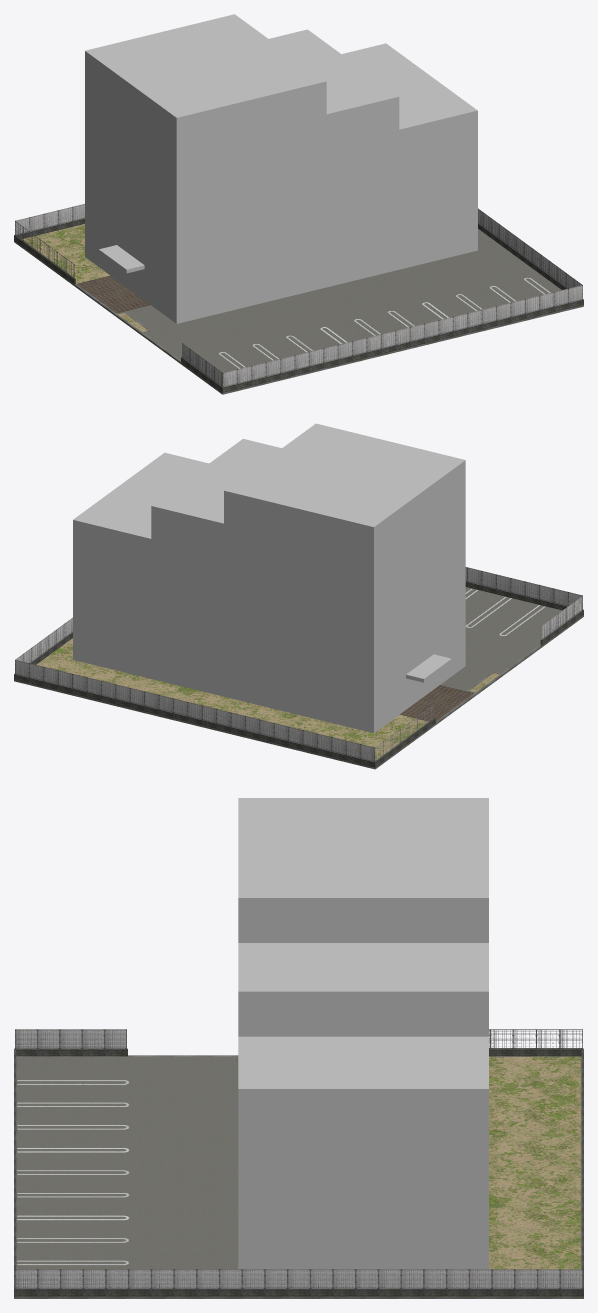
The model's file is Apartment_old_lightgray.fbx.
3 renders of one model, top to bottom at view 1: azimuth 30°, elevation 25°; view 2: azimuth 150°, elevation 25°; view 3: azimuth 270°, elevation 25°, orthographic. The views are drawn at different scales.
Parts seen in each view (by area): view 1: 100_Apartment_old_lightgray, 000_Site_apartment_old_lightgray, 101_Apartment_old_lightgray_sidewall, 200_Fence_apartment_old_lightgray; view 2: 100_Apartment_old_lightgray, 101_Apartment_old_lightgray_sidewall, 000_Site_apartment_old_lightgray, 200_Fence_apartment_old_lightgray; view 3: 100_Apartment_old_lightgray, 000_Site_apartment_old_lightgray, 200_Fence_apartment_old_lightgray.
Boxes of the visible parts, x1=… form: 100_Apartment_old_lightgray: x1=85, y1=14, x2=477, y2=323; 000_Site_apartment_old_lightgray: x1=14, y1=223, x2=583, y2=394; 101_Apartment_old_lightgray_sidewall: x1=85, y1=51, x2=176, y2=323; 200_Fence_apartment_old_lightgray: x1=14, y1=204, x2=583, y2=392; 100_Apartment_old_lightgray: x1=73, y1=423, x2=465, y2=733; 101_Apartment_old_lightgray_sidewall: x1=374, y1=460, x2=465, y2=732; 000_Site_apartment_old_lightgray: x1=14, y1=587, x2=583, y2=769; 200_Fence_apartment_old_lightgray: x1=14, y1=567, x2=583, y2=767; 100_Apartment_old_lightgray: x1=238, y1=798, x2=488, y2=1269; 000_Site_apartment_old_lightgray: x1=14, y1=1055, x2=583, y2=1298; 200_Fence_apartment_old_lightgray: x1=14, y1=1029, x2=583, y2=1296.
Bounding box in the file's own units: 30 × 16.5 × 30.
